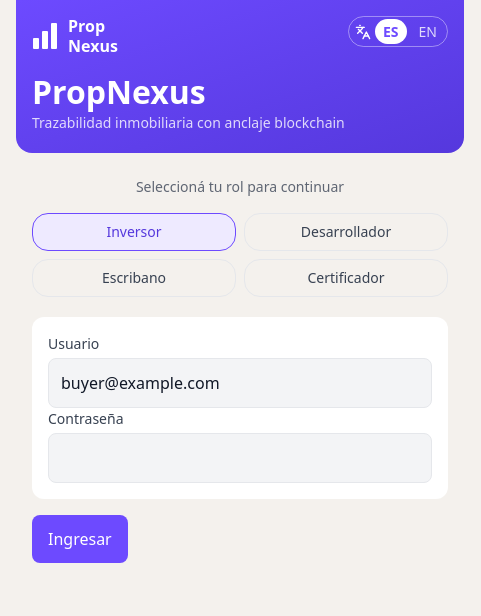
Test: LoginScreen › API caída: muestra un mensaje accionable en lugar de romperse
The width and height of the screenshot is (481, 616).
What coordinates should you click on to do the following:
click the button "Ingresar"
I would click on:
 (80, 539)
Its box is [32,515,128,563].
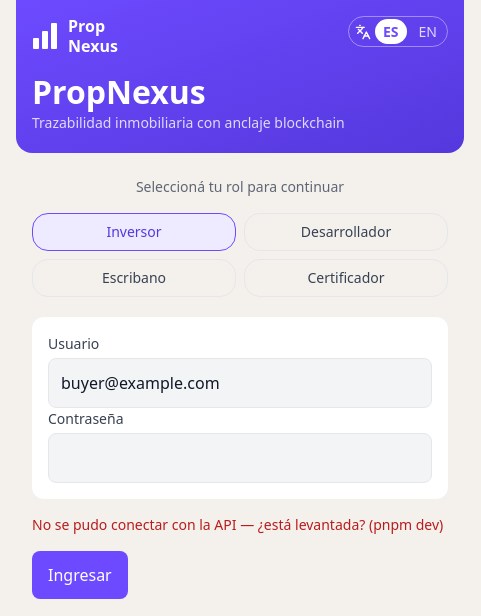
Result: the text "No se pudo conectar con la API — ¿está levantada? (pnpm dev)" is shown at [32,515,448,535]
